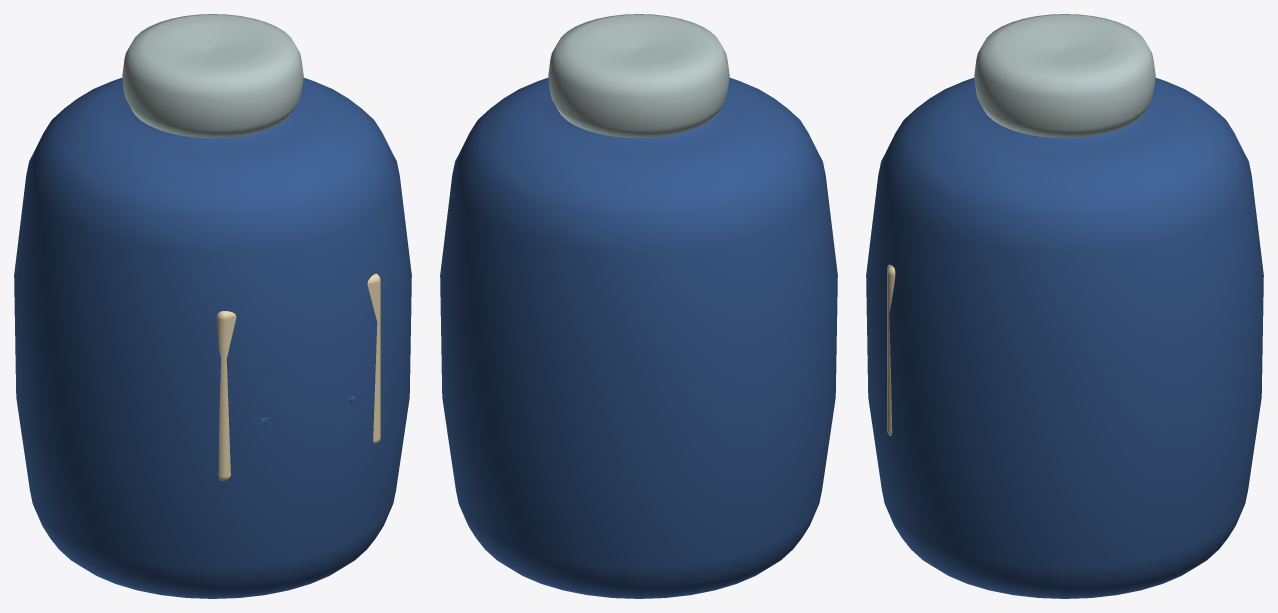
Rendered from bonus-cooling-light.glb.
3 renders of one model, left to right at view 1: azimuth 30°, elevation 25°; view 2: azimuth 150°, elevation 25°; view 3: azimuth 270°, elevation 25°, orthographic.
Visible parts, largest first — view 1: blue, steel, cream; view 2: blue, steel; view 3: blue, steel, cream.
Part boxes in pixels (left/top/right/bottom): blue: left=14, top=78, right=411, bottom=598; steel: left=122, top=14, right=303, bottom=138; cream: left=216, top=273, right=380, bottom=480; blue: left=440, top=78, right=837, bottom=598; steel: left=548, top=14, right=729, bottom=138; blue: left=866, top=78, right=1263, bottom=598; steel: left=974, top=14, right=1155, bottom=138; cream: left=887, top=264, right=895, bottom=435.
Bounding box in the file's own units: 0.5293 × 0.7352 × 0.5293.
